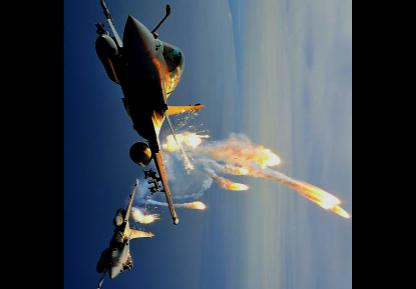RQ4: (95, 0, 206, 224), (96, 176, 155, 288)
